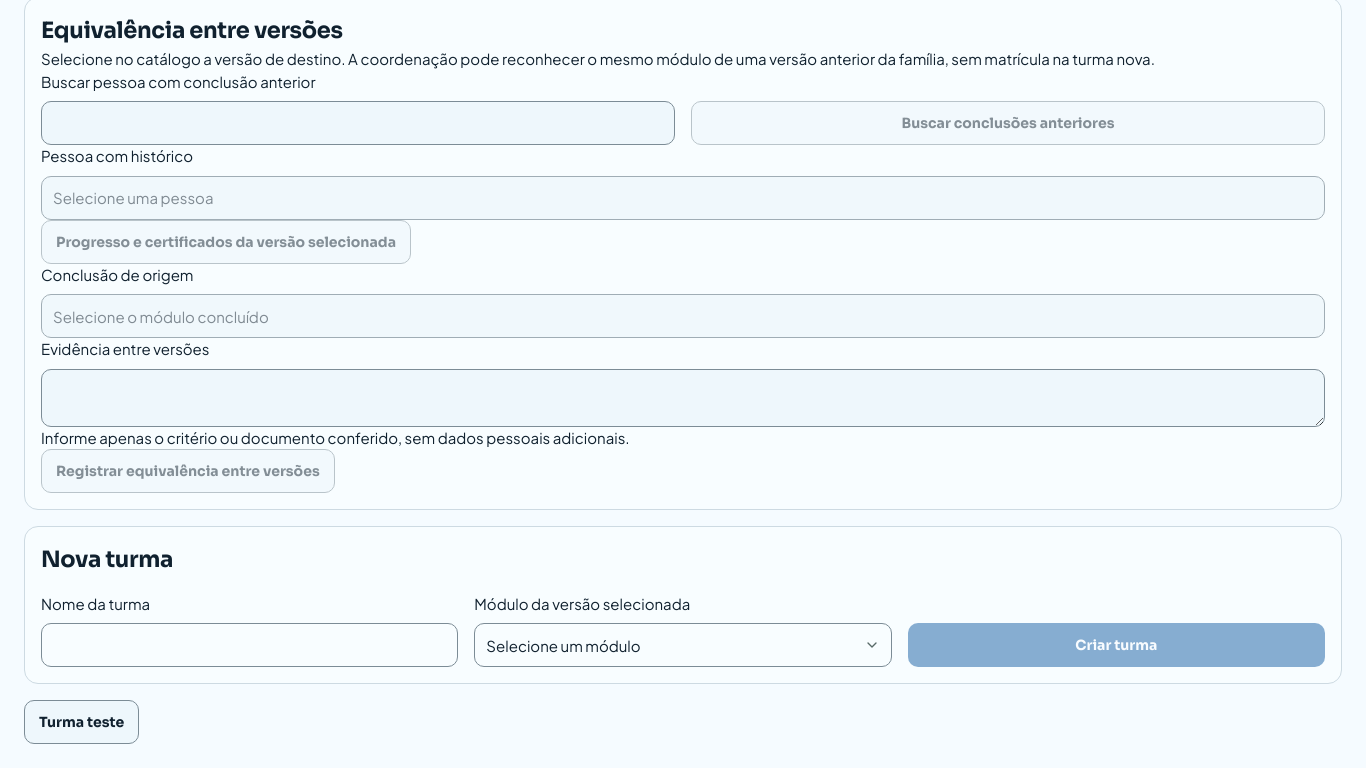
Test: consulta elegíveis com pré-requisito em módulos posteriores
The width and height of the screenshot is (1366, 768).
(page scrolled)
Click the button "Turma teste" at point(82, 722), box [24, 700, 139, 744]
(page scrolled)
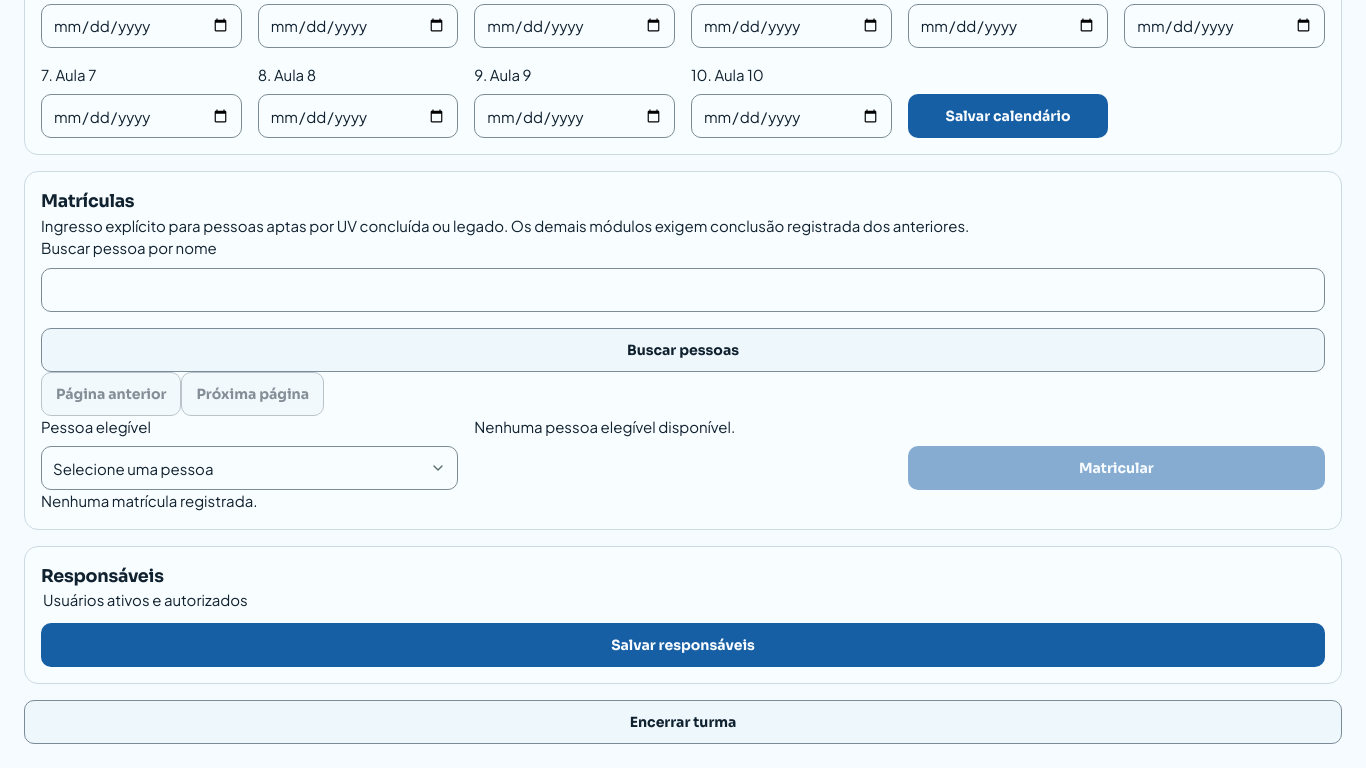
Now the button "Matricular" is shown, box [908, 446, 1325, 490]
